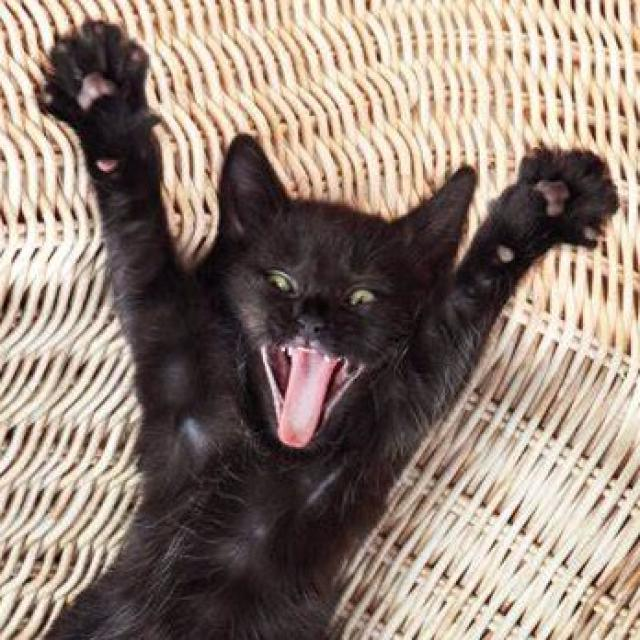Surprised: (229, 241, 400, 453)
